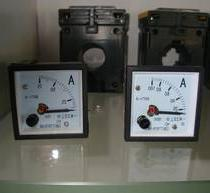pointer: (130, 71, 199, 137), (15, 69, 83, 135)
